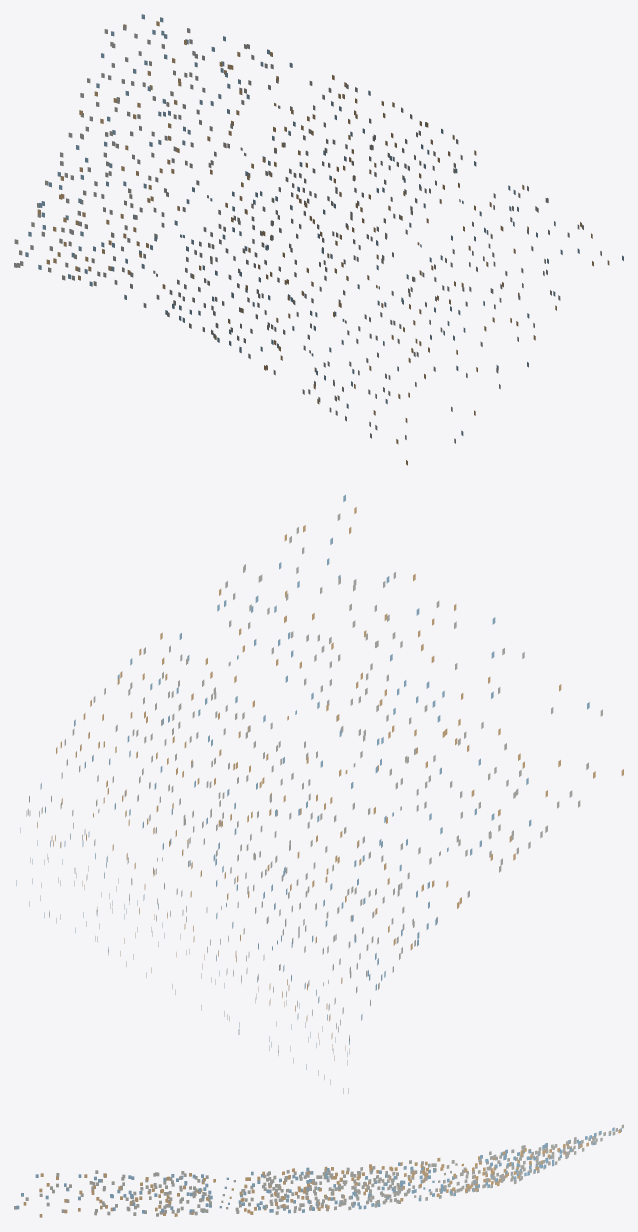
The model's file is UpperPhones1.obj.
3 views of the same model, one above another, from view 1: azimuth 30°, elevation 25°; view 2: azimuth 150°, elevation 25°; view 3: azimuth 270°, elevation 25° (orthographic). The views are drawn at different scales.
Visible parts, largest first — view 1: UpperPhones1; view 2: UpperPhones1; view 3: UpperPhones1.
Boxes of the visible parts, x1=… form: UpperPhones1: x1=14, y1=14, x2=623, y2=465; UpperPhones1: x1=16, y1=494, x2=623, y2=1093; UpperPhones1: x1=14, y1=1124, x2=623, y2=1217.
Size of the model in its own units: 32.13 by 16.36 by 69.85.
Materials: 1 (1 with a texture image).
